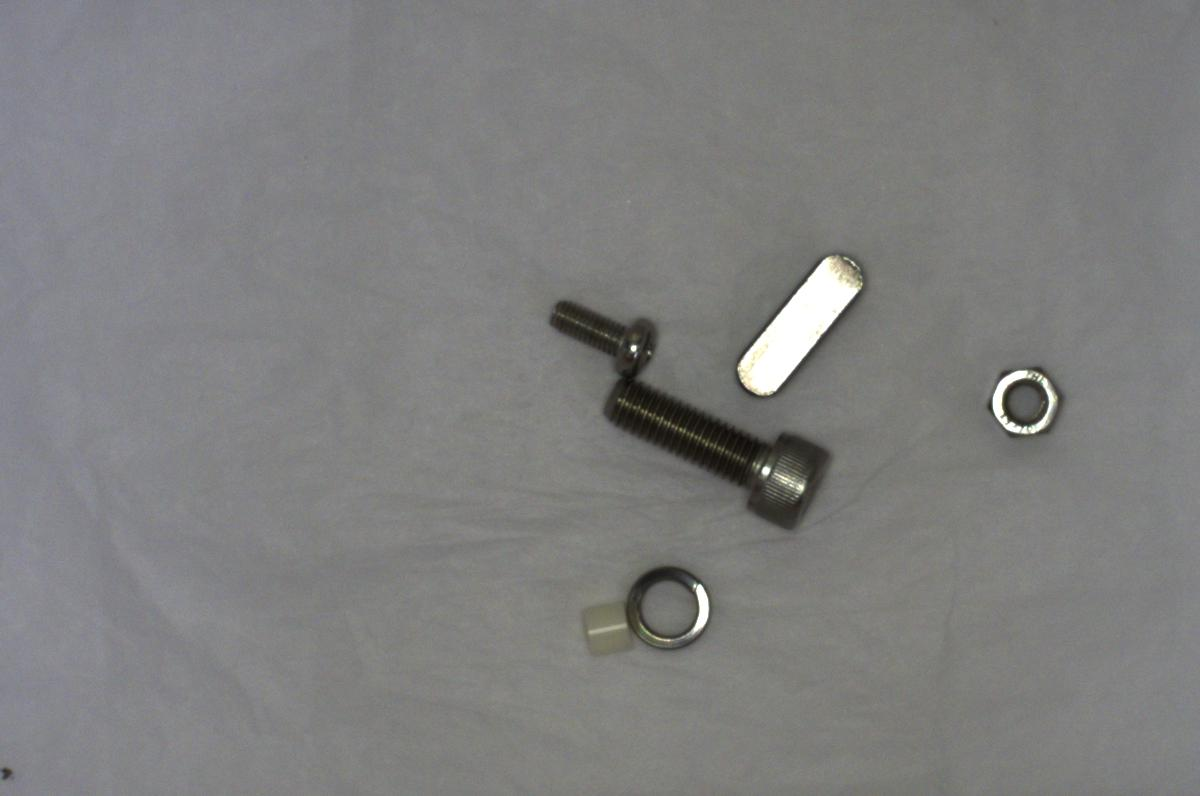Hexagon nut: (975, 354, 1070, 445)
Hexagon screw: (587, 377, 842, 530)
Keybar: (724, 246, 876, 392)
Plastic cushion pillar: (570, 591, 639, 663)
Round head screw: (539, 291, 662, 377)
Spring washer: (616, 560, 712, 653)
